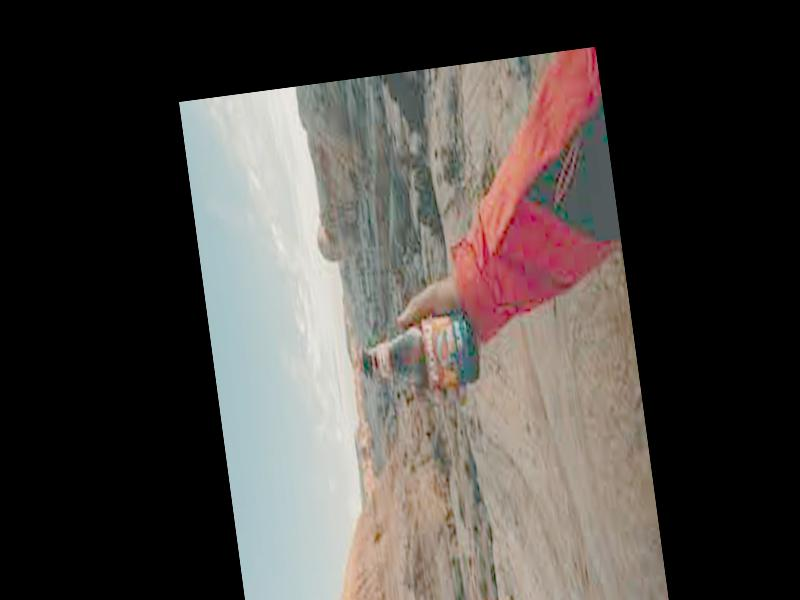Beer: (356, 304, 481, 401)
